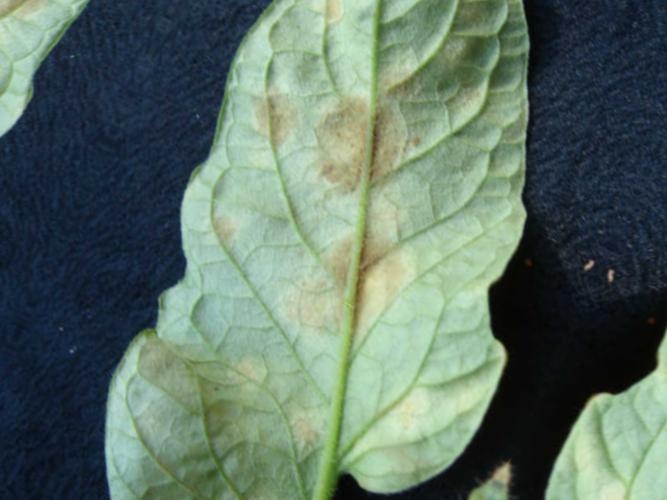Tomato mold leaf: (25, 0, 667, 500)
